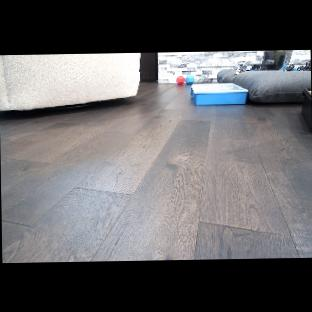V5_BLUE: (185, 75, 194, 84)
V5_RED: (176, 75, 185, 85)
